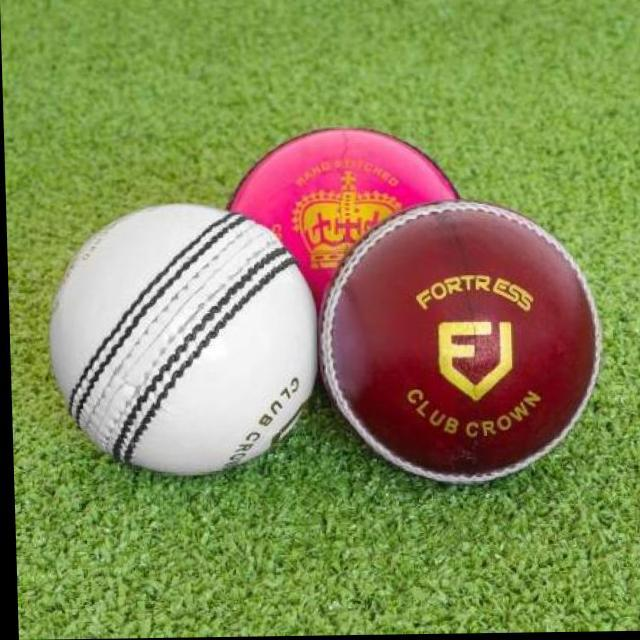cricket ball: (316, 201, 599, 484), (47, 205, 316, 474)
